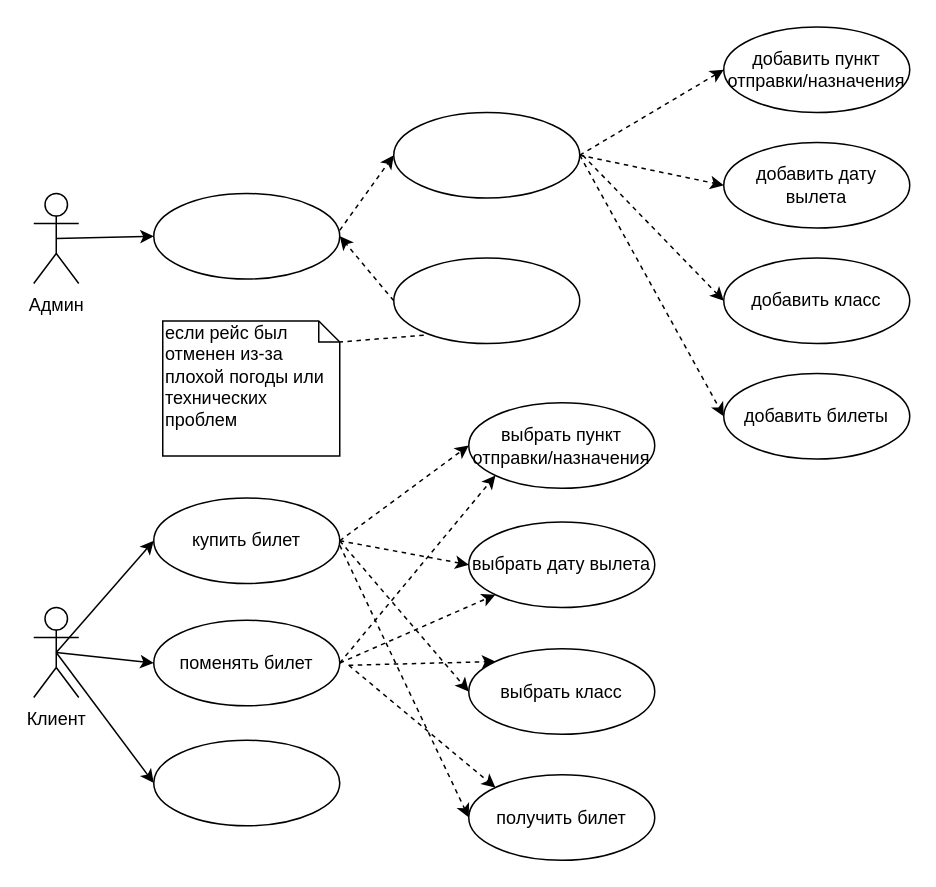
This 936x887 diagram has some shape labels left out. The shapes that lost their labels are listed below. From the top down, each one's box as (x1, y1, x2, y2) in pixels, then its label:
(392, 111, 580, 198): добавить рейс
(152, 192, 340, 279): изменить расписание
(392, 256, 580, 344): удалить рейс
(152, 739, 340, 826): сдать билет
